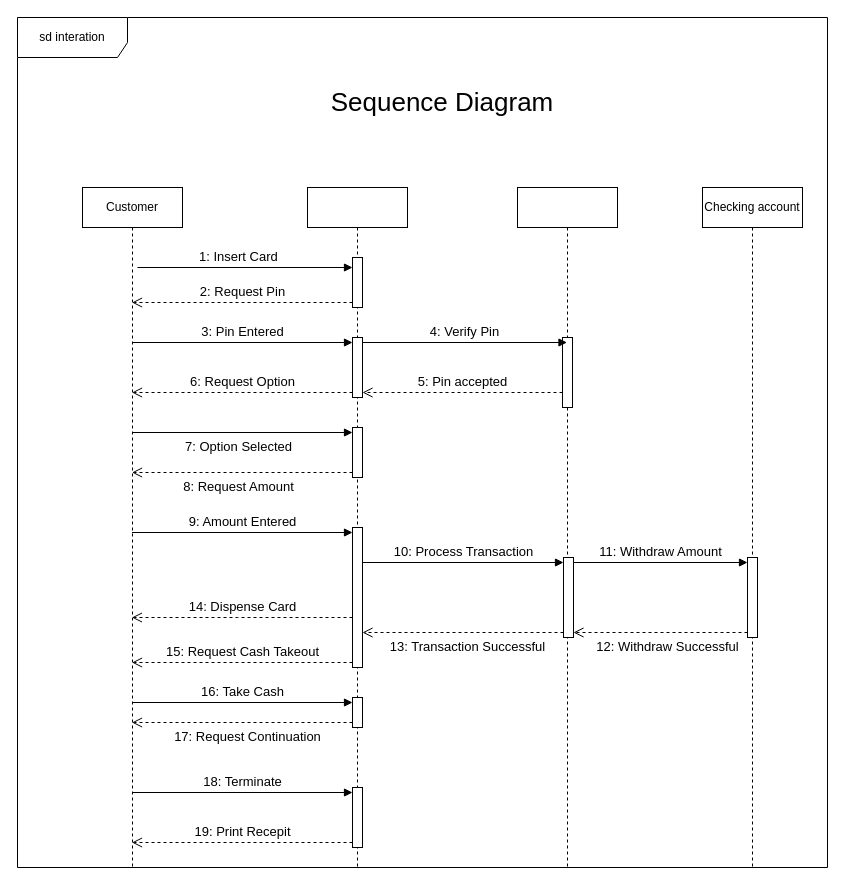
Image size: 845x885. Some labels were removed from this diagram. Here are the shapes that lost their labels. From the top down, the centre of each, then its label:
At point 357,527: "ATM".
At point 567,527: "Account".
